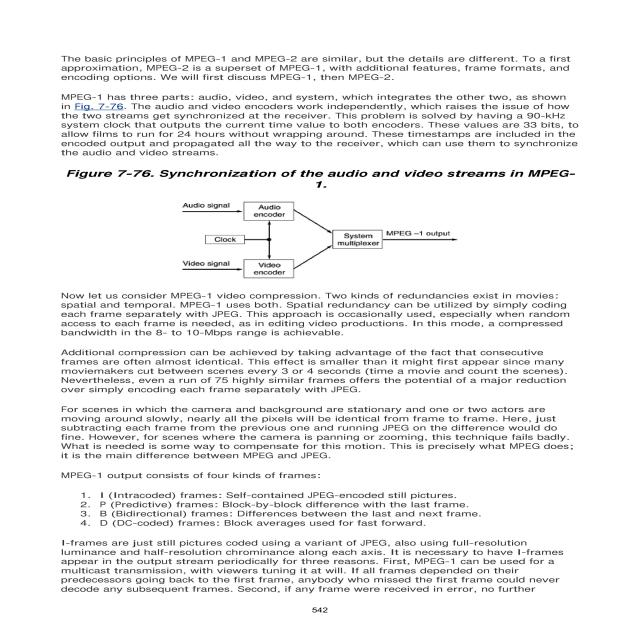diagram: (41, 155, 592, 281)
